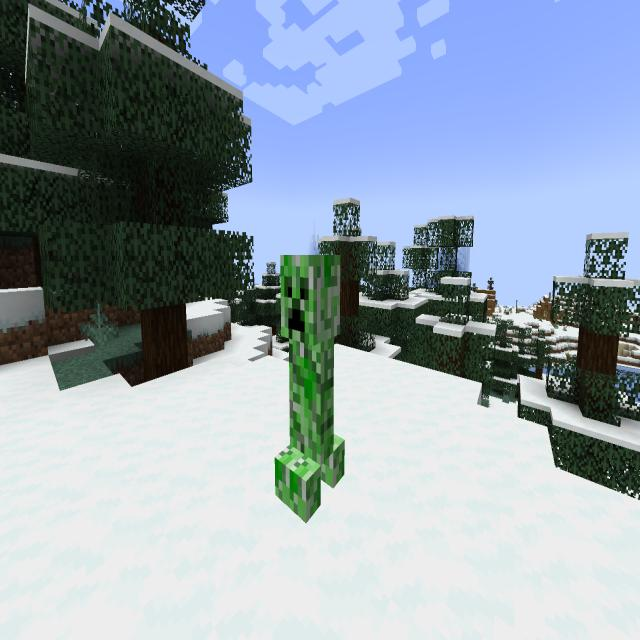Creeper: (268, 236, 354, 535)
